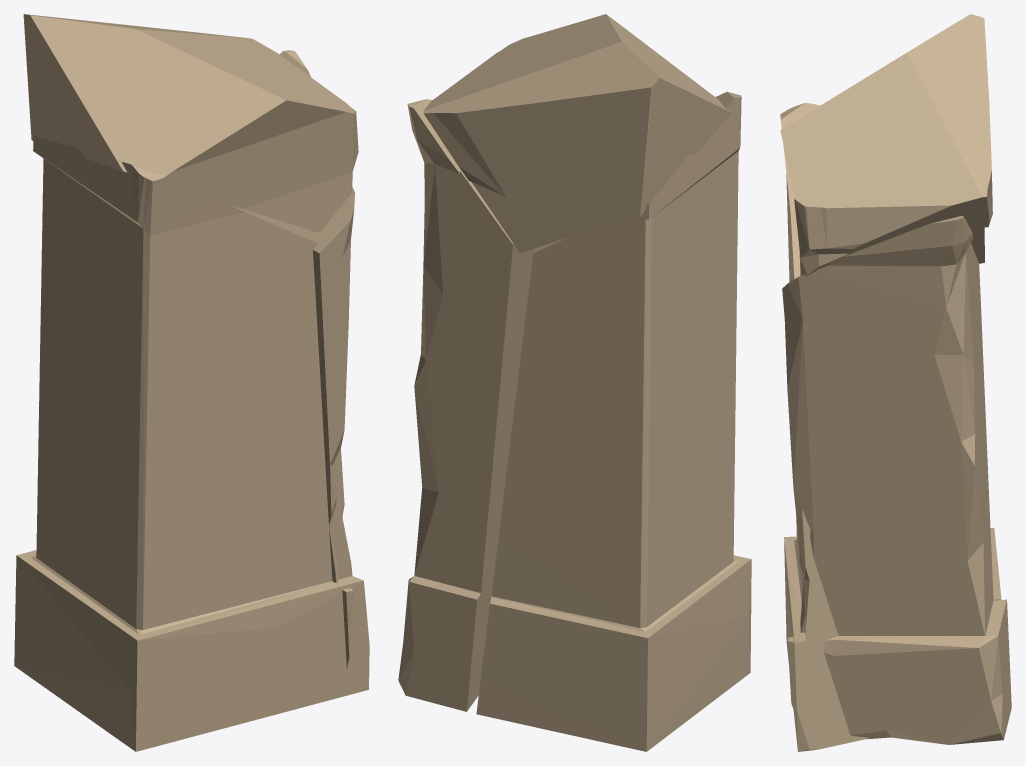
Rendered from SM_stone_debris_03.fbx.
3 renders of one model, left to right at view 1: azimuth 30°, elevation 25°; view 2: azimuth 150°, elevation 25°; view 3: azimuth 270°, elevation 25°, orthographic. The views are drawn at different scales.
Parts seen in each view (by area): view 1: stone_debris_03; view 2: stone_debris_03; view 3: stone_debris_03.
Boxes of the visible parts, x1,y1,x2,y2 form: stone_debris_03: [14, 14, 369, 751]; stone_debris_03: [398, 14, 751, 751]; stone_debris_03: [780, 14, 1011, 751].
Size of the model in its own units: 209 by 514 by 172.
